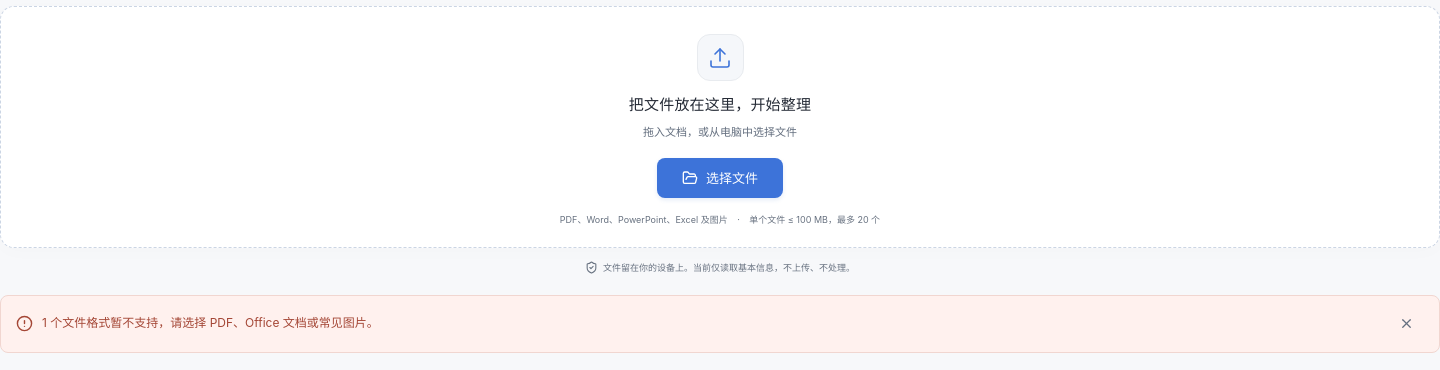
local file interactions › reports an unsupported dropped file and lets the user dismiss the feedback
Earlier steps of the test are not shown.
Check: the message shows "1 个文件格式暂不支持", box 42,315 -> 379,330
Click the button named "关闭文件提示" at (1406, 324), box 1388,306 -> 1424,342
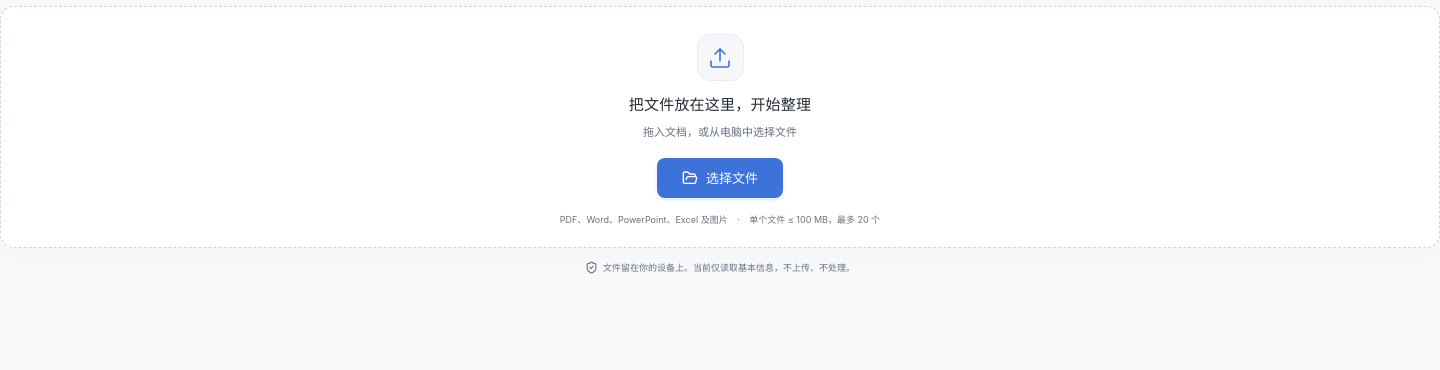
Check: the message "1 个文件格式暂不支持，请选择 PDF、Office 文档或常见图片。" is gone
